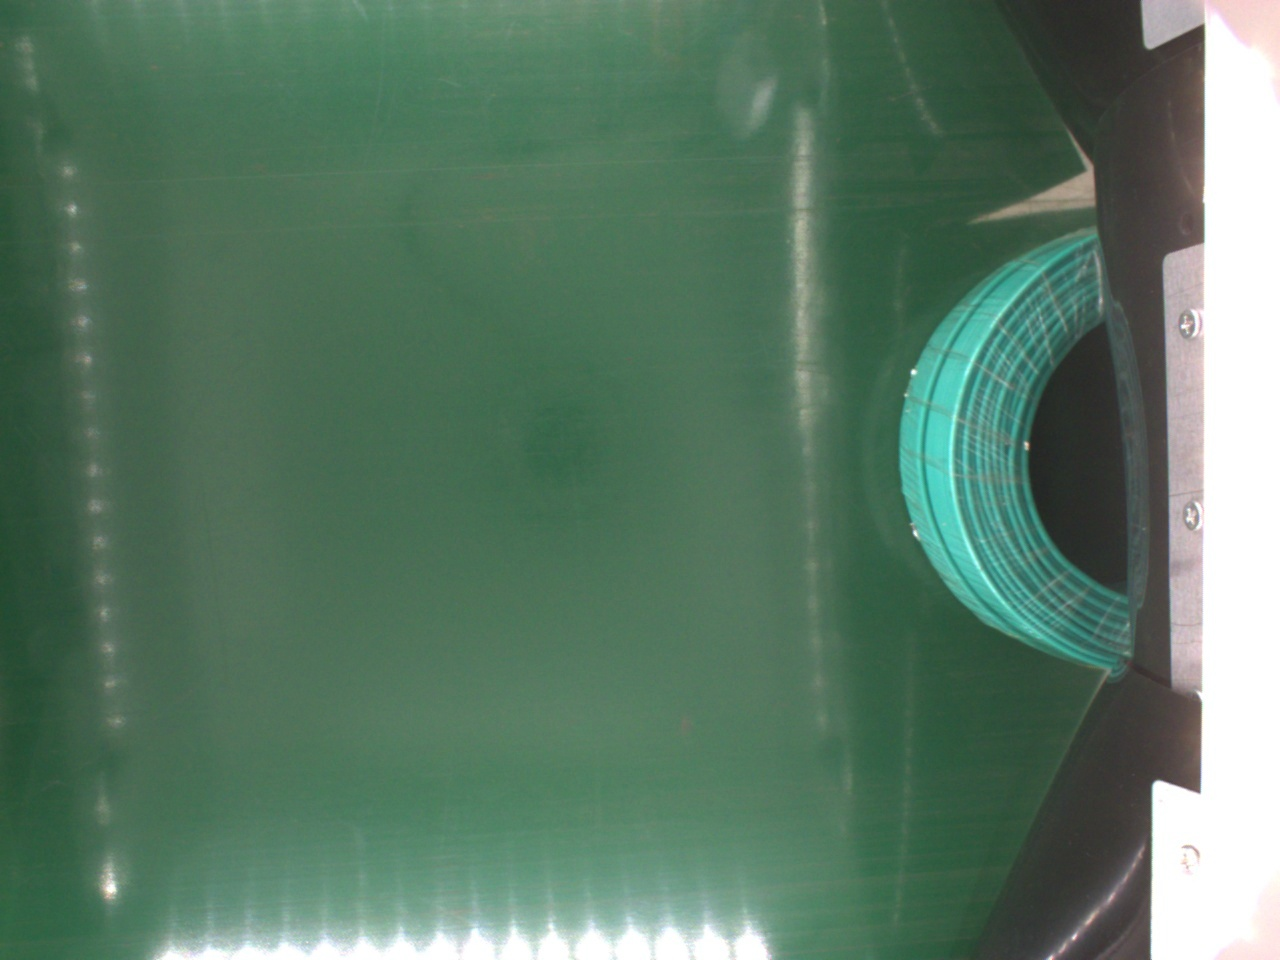green: (900, 225, 1146, 680)
